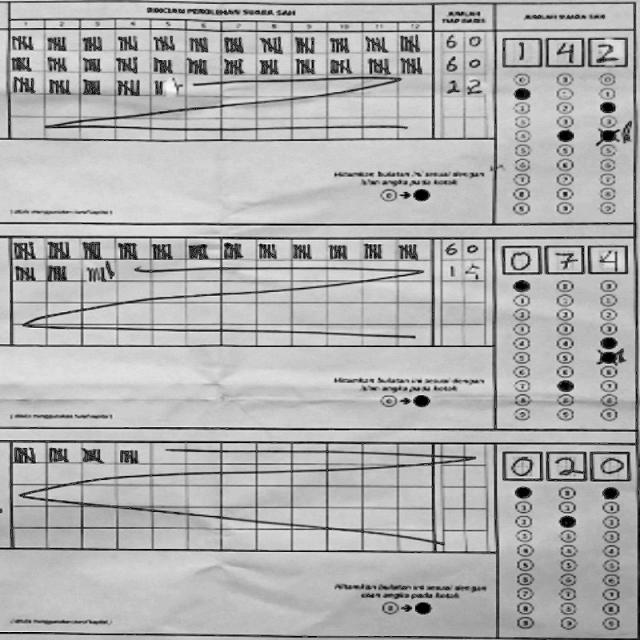Suara: (495, 32, 629, 71), (499, 240, 633, 279), (497, 442, 630, 481)
